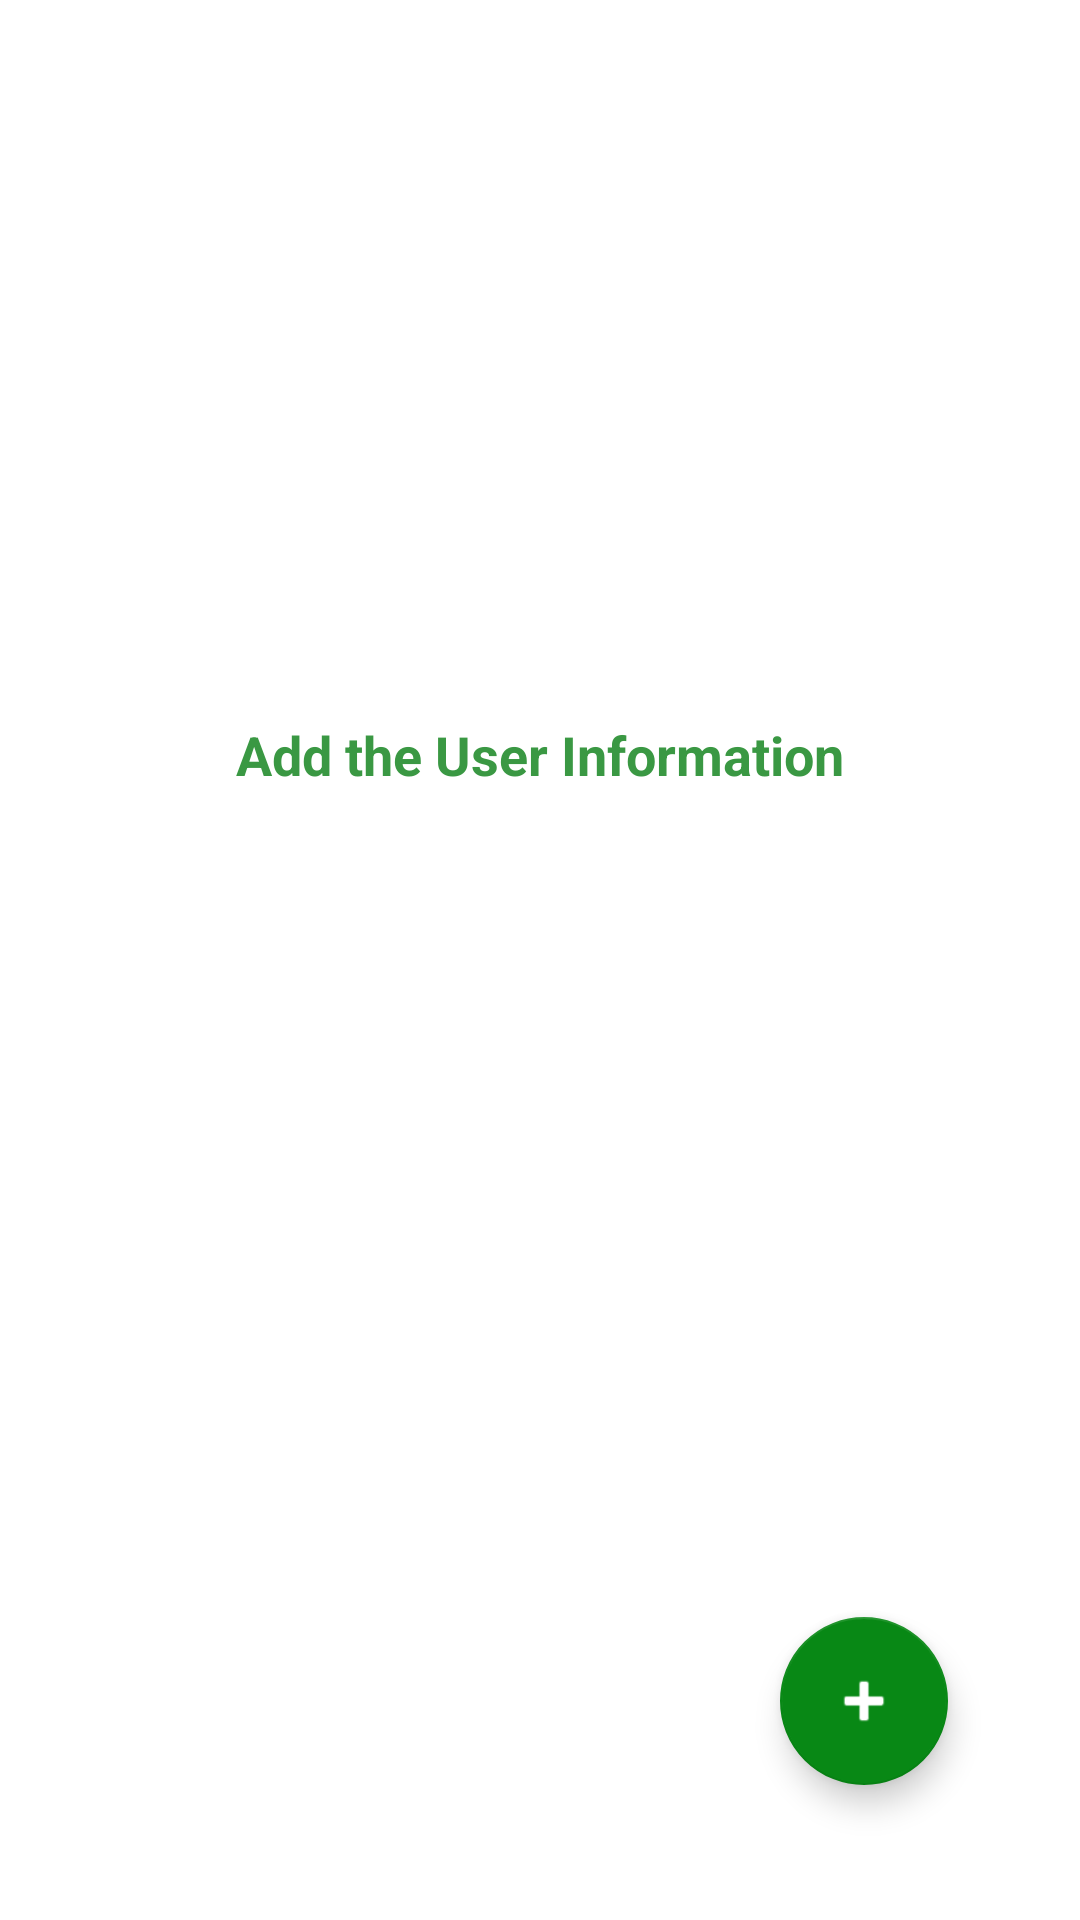

Where to tap for icons on this 1080w x 1920h app screen, as point (x, y):
add: point (864, 1701)
